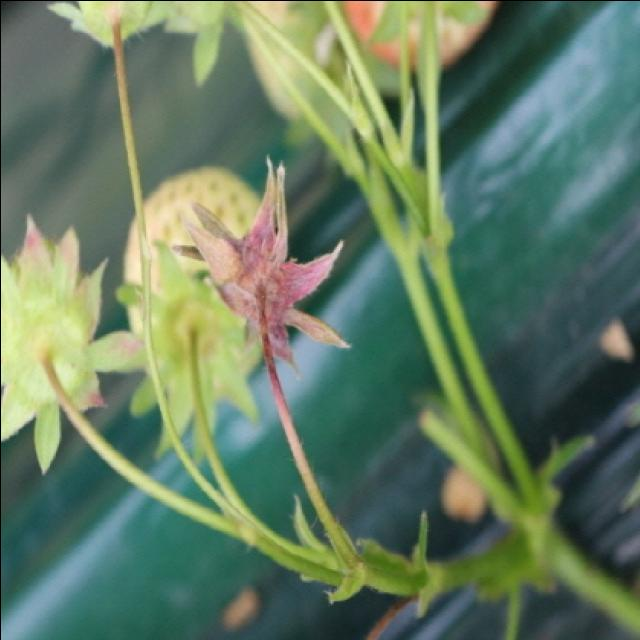Gray Mold: (170, 158, 347, 373)
